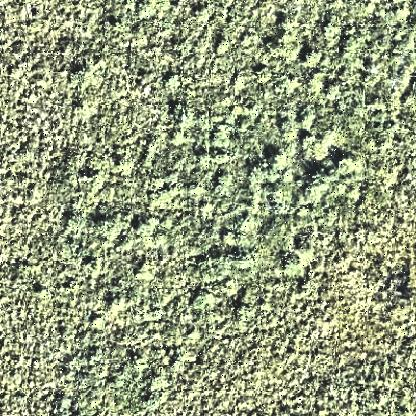tree-top: (247, 152, 287, 188), (334, 150, 370, 180), (306, 169, 338, 199), (298, 133, 332, 161)
